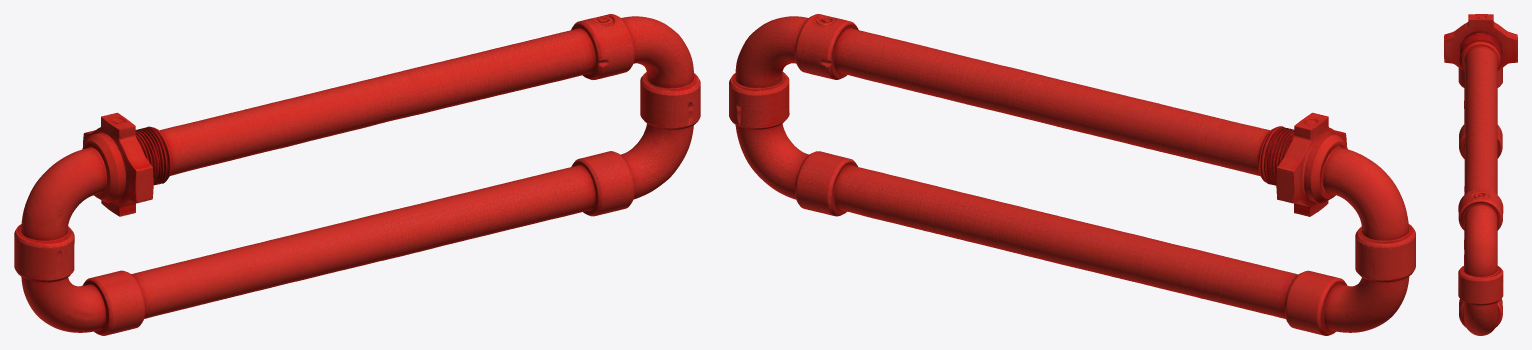
Rendered from mangueraMetalica.glb.
3 views of the same model, side by side, from view 1: azimuth 30°, elevation 25°; view 2: azimuth 150°, elevation 25°; view 3: azimuth 270°, elevation 25° (orthographic). The views are drawn at different scales.
Visible parts, largest first — view 1: tripo_node_376066b4-bb81-481c-b3aa-016ee4010db5; view 2: tripo_node_376066b4-bb81-481c-b3aa-016ee4010db5; view 3: tripo_node_376066b4-bb81-481c-b3aa-016ee4010db5.
Boxes of the visible parts, bbox=[...] form: tripo_node_376066b4-bb81-481c-b3aa-016ee4010db5: bbox=[14, 14, 700, 335]; tripo_node_376066b4-bb81-481c-b3aa-016ee4010db5: bbox=[729, 14, 1415, 335]; tripo_node_376066b4-bb81-481c-b3aa-016ee4010db5: bbox=[1444, 14, 1517, 335].
Size of the model in its own units: 0.9793 by 0.2865 by 0.1321.
Materials: 1 (1 with a texture image).
